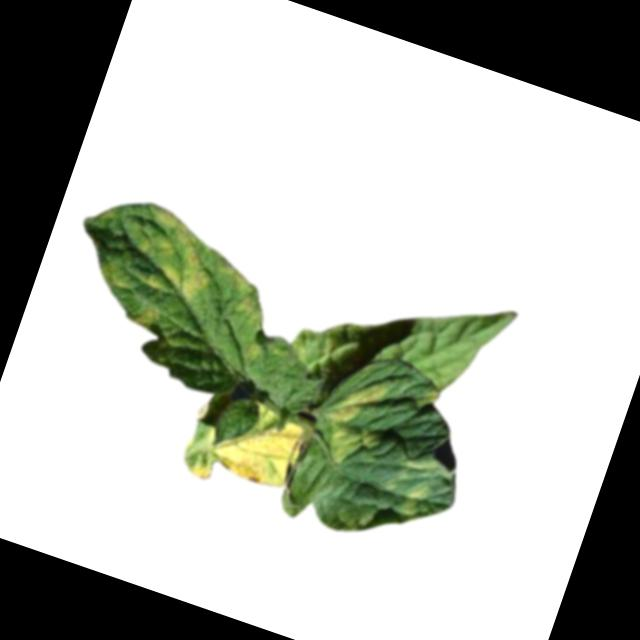Leaf_Mold: (88, 194, 226, 343), (179, 383, 314, 508), (312, 365, 398, 474)
